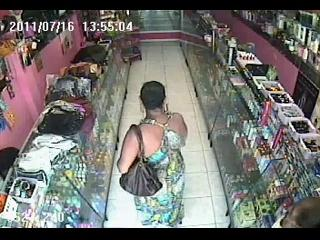Normal: (117, 80, 188, 226), (118, 123, 164, 196)
